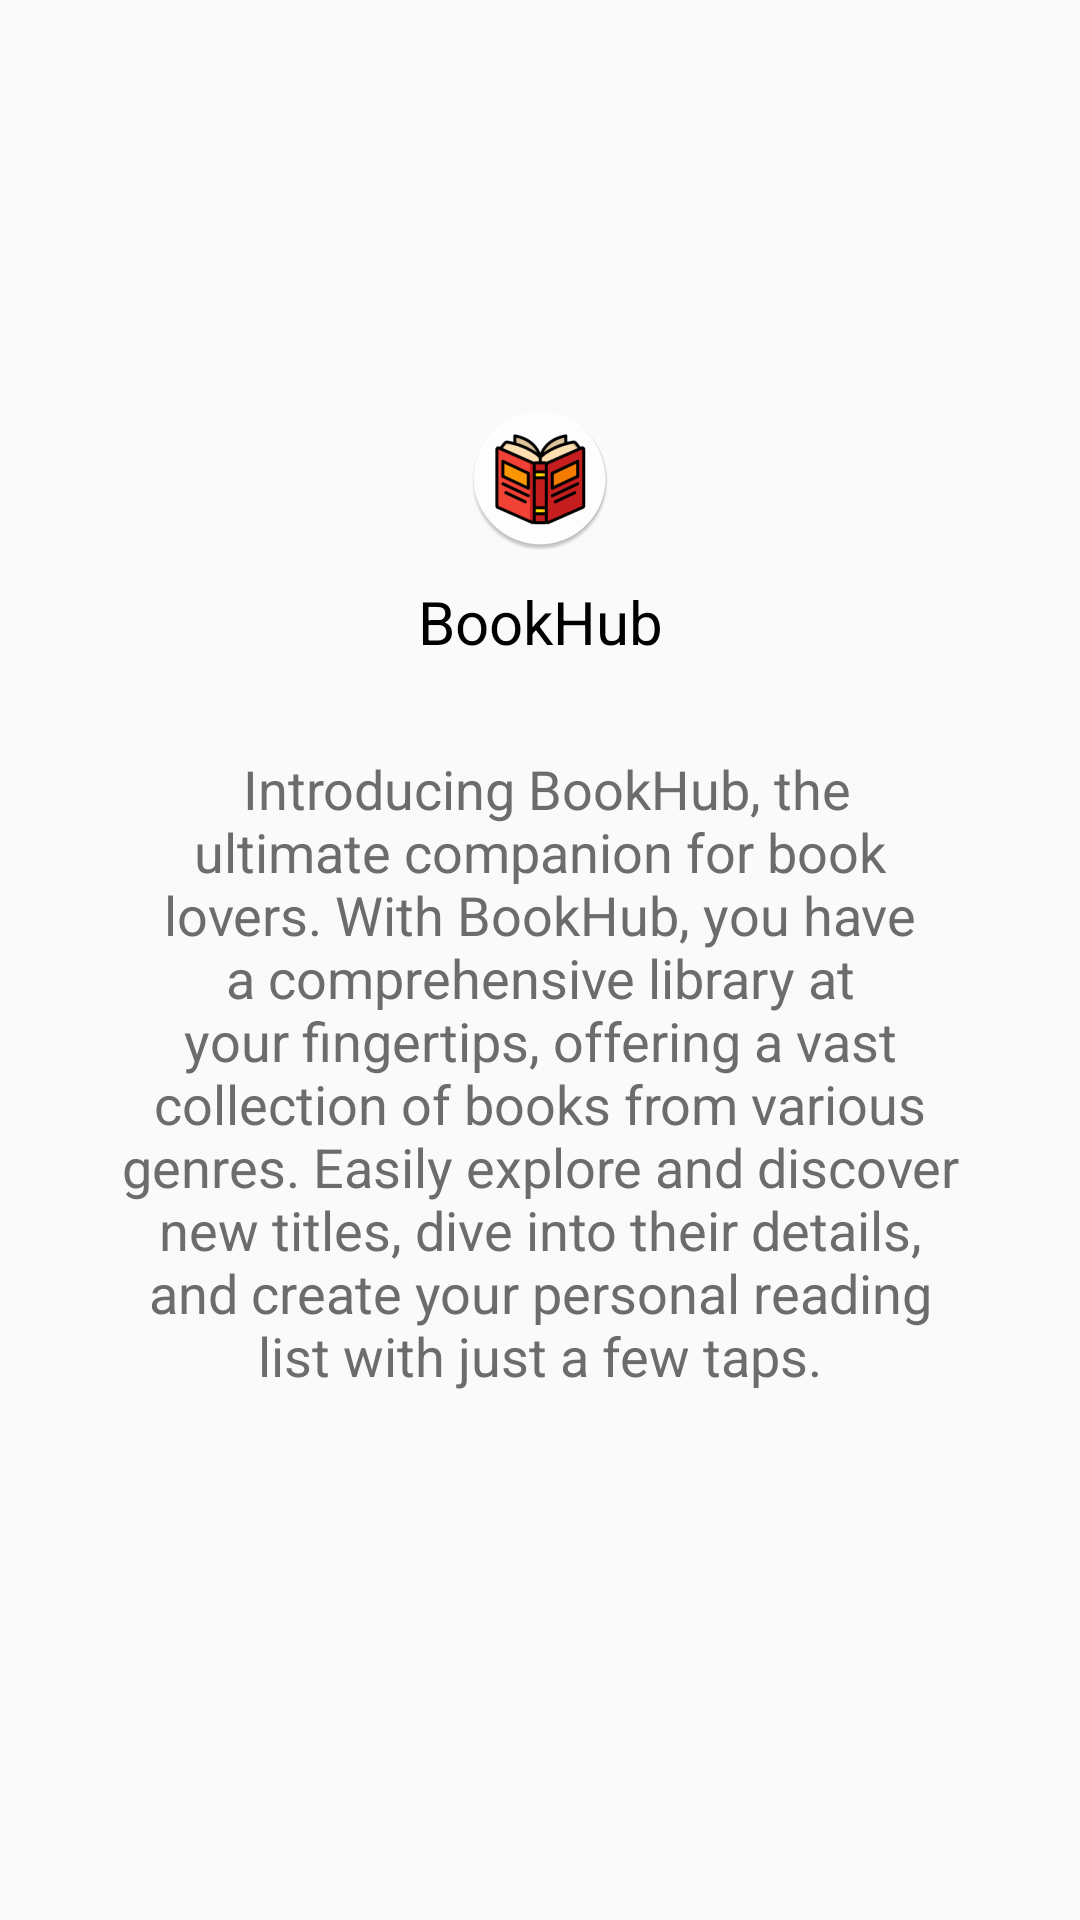

Icons on this 1080w x 1920h Android screen, each with the point to tap as [x,y]:
book app round: [541,491]
